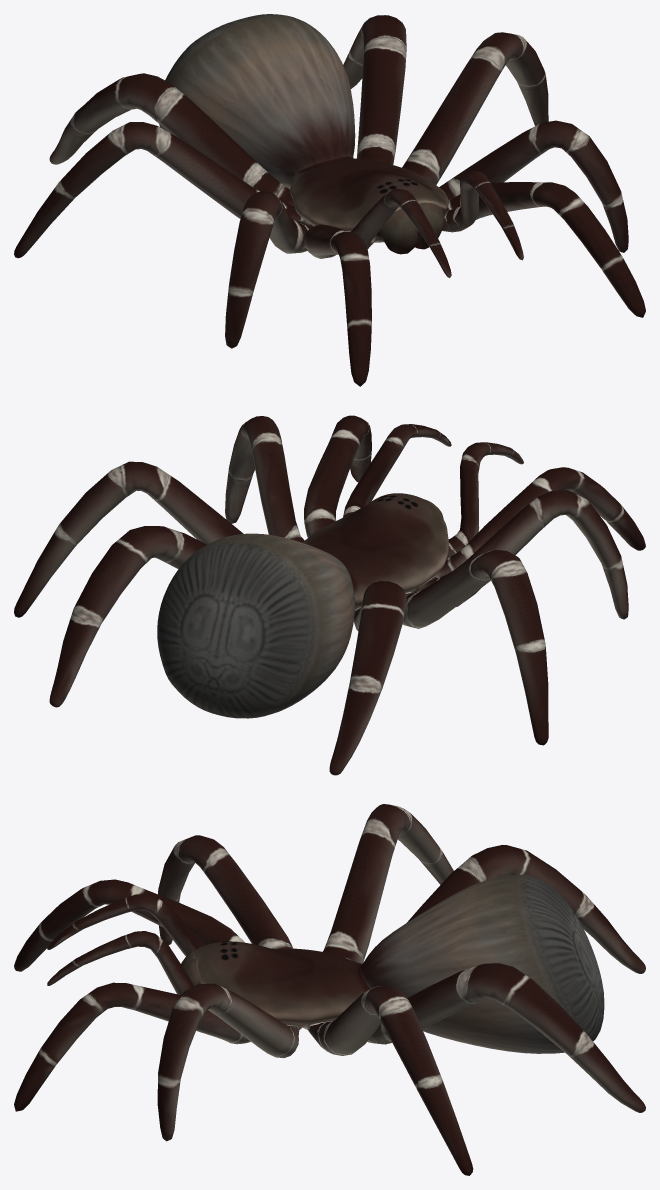
3 renders of one model, top to bottom at view 1: azimuth 30°, elevation 25°; view 2: azimuth 150°, elevation 25°; view 3: azimuth 270°, elevation 25°, orthographic. The views are drawn at different scales.
Parts seen in each view (by area): view 1: Spider; view 2: Spider; view 3: Spider.
Boxes of the visible parts, x1,y1,x2,y2 form: Spider: (14, 14, 645, 386); Spider: (14, 415, 645, 775); Spider: (14, 804, 645, 1175).
Size of the model in its own units: 1.53 by 0.4296 by 1.54.
Materials: 1 (1 with a texture image).
